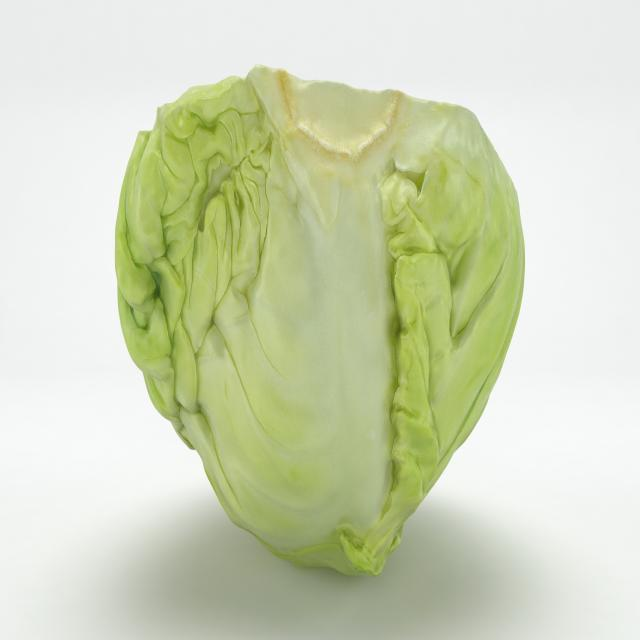haft-cabbage: (109, 63, 535, 584)
